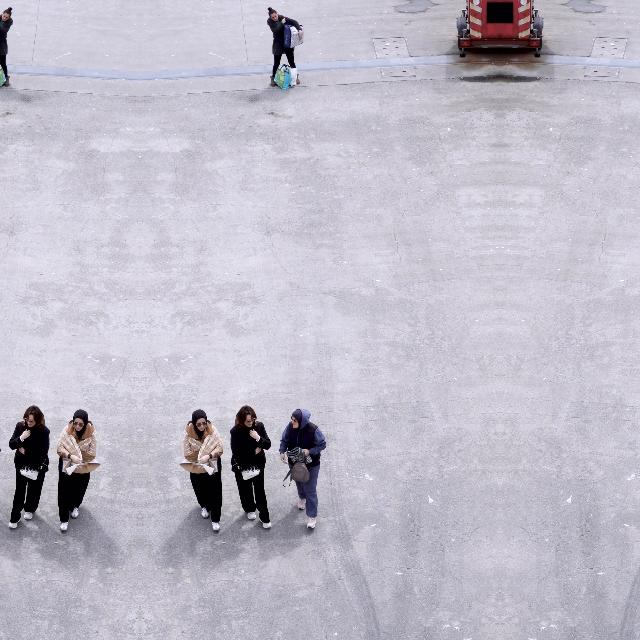person: (279, 409, 327, 529), (180, 409, 224, 531), (56, 409, 100, 531), (230, 405, 272, 529), (8, 405, 50, 529), (266, 7, 304, 87), (0, 7, 13, 87), (0, 409, 1, 529)
